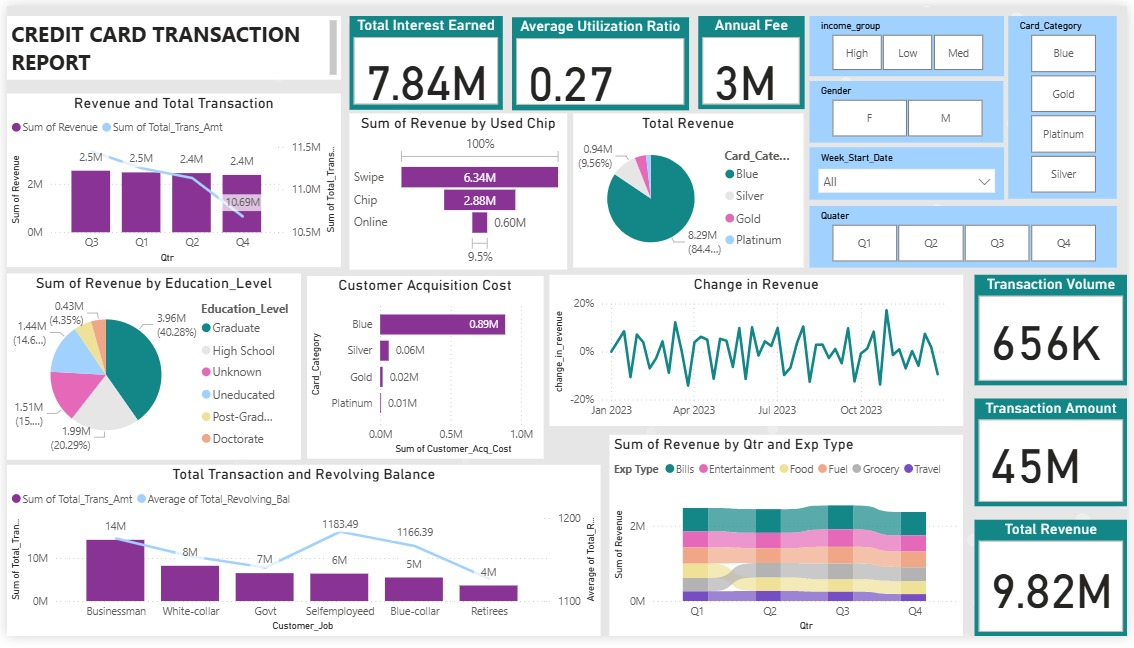

The dashboard page shown, as its layout file describes it:
{"tool":"powerbi","page":{"name":"Credit Card Transaction Report","canvas":[1280,720],"ordinal":0},"visuals":[{"type":"textbox","box":[9.8,0,675.8,70],"z":0},{"type":"lineStackedColumnComboChart","title":"Qtr revenue and total trans count","fields":{"Category":["credit_card.Qtr"],"Y":["Sum(credit_card.Revenue)"],"Y2":["Sum(credit_card.Total_Trans_Vol)"]},"box":[20.9,493.9,337.9,226.1],"z":1000},{"type":"barChart","title":"Sum of revenue by exp_type","fields":{"Category":["credit_card.Exp Type"],"Y":["Sum(credit_card.Total_Trans_Amt)"]},"box":[706.5,482.9,280.1,226.1],"z":2000},{"type":"barChart","title":"Education by revenue","fields":{"Y":["Sum(credit_card.Revenue)"],"Category":["customer.Education_Level"]},"box":[706.5,11.1,280.1,226.1],"z":3000},{"type":"barChart","title":"Income source by revenue","fields":{"Y":["Sum(credit_card.Revenue)"],"Category":["customer.Customer_Job"]},"box":[383.3,493.9,323.1,226.1],"z":4000},{"type":"barChart","title":"Card by Cust Acq Cost","fields":{"Y":["Sum(credit_card.Customer_Acq_Cost)"],"Category":["credit_card.Card_Category"]},"box":[1000.1,482.9,280.1,226.1],"z":5000},{"type":"columnChart","title":"Card by revenue","fields":{"Category":["credit_card.Card_Category"],"Y":["Sum(credit_card.Revenue)"]},"box":[706.5,247,280.1,226.1],"z":6000},{"type":"pieChart","title":"Transaction type by revenue","fields":{"Category":["credit_card.Use Chip"],"Y":["Sum(credit_card.Revenue)"]},"box":[1000.1,247,280.1,226.1],"z":7000},{"type":"tableEx","fields":{"Values":["credit_card.Card_Category","Sum(credit_card.Revenue)","Sum(credit_card.Interest_Earned)","Sum(credit_card.Customer_Acq_Cost)","Sum(credit_card.Total_Trans_Amt)"]},"box":[9.8,237.1,696.6,189.2],"z":8000},{"type":"card","fields":{"Values":["Sum(credit_card.Revenue)"]},"box":[9.8,83.5,151.1,121.6],"z":9000},{"type":"card","fields":{"Values":["Sum(credit_card.Total_Trans_Amt)"]},"box":[172,83.5,162.2,121.6],"z":10000},{"type":"card","fields":{"Values":["Sum(credit_card.Interest_Earned)"]},"box":[347.7,83.5,162.2,121.6],"z":11000},{"type":"card","fields":{"Values":["Sum(credit_card.Total_Trans_Vol)"]},"box":[523.4,84.8,162.2,121.6],"z":12000},{"type":"slicer","fields":{"Values":["credit_card.Week_Start_Date"]},"box":[1000.1,11.1,280.1,72.5],"z":13000},{"type":"treemap","fields":{"Group":["credit_card.Qtr"],"Values":["Avg(credit_card.Client_Num)"]},"box":[1009.9,73.7,266.6,72.5],"z":14000},{"type":"treemap","fields":{"Group":["customer.Gender"],"Values":["Avg(credit_card.Client_Num)"]},"box":[1013.6,145,266.6,72.5],"z":15000}]}

Visuals, with their boxes in screenshot pixels (x1, y1, x2, y2), scaled from the page's 1280x720 canvas onto the 1134x648 screenshot:
textbox: box=[9, 0, 607, 63]
"Qtr revenue and total trans count" lineStackedColumnComboChart: box=[19, 445, 318, 647]
"Sum of revenue by exp_type" barChart: box=[626, 435, 874, 638]
"Education by revenue" barChart: box=[626, 10, 874, 213]
"Income source by revenue" barChart: box=[340, 445, 626, 647]
"Card by Cust Acq Cost" barChart: box=[886, 435, 1133, 638]
"Card by revenue" columnChart: box=[626, 222, 874, 426]
"Transaction type by revenue" pieChart: box=[886, 222, 1133, 426]
tableEx - credit_card.Card_Category x Sum(credit_card.Revenue): box=[9, 213, 626, 384]
card - Sum(credit_card.Revenue): box=[9, 75, 143, 185]
card - Sum(credit_card.Total_Trans_Amt): box=[152, 75, 296, 185]
card - Sum(credit_card.Interest_Earned): box=[308, 75, 452, 185]
card - Sum(credit_card.Total_Trans_Vol): box=[464, 76, 607, 186]
slicer - credit_card.Week_Start_Date: box=[886, 10, 1133, 75]
treemap - credit_card.Qtr x Avg(credit_card.Client_Num): box=[895, 66, 1131, 132]
treemap - customer.Gender x Avg(credit_card.Client_Num): box=[898, 130, 1133, 196]
